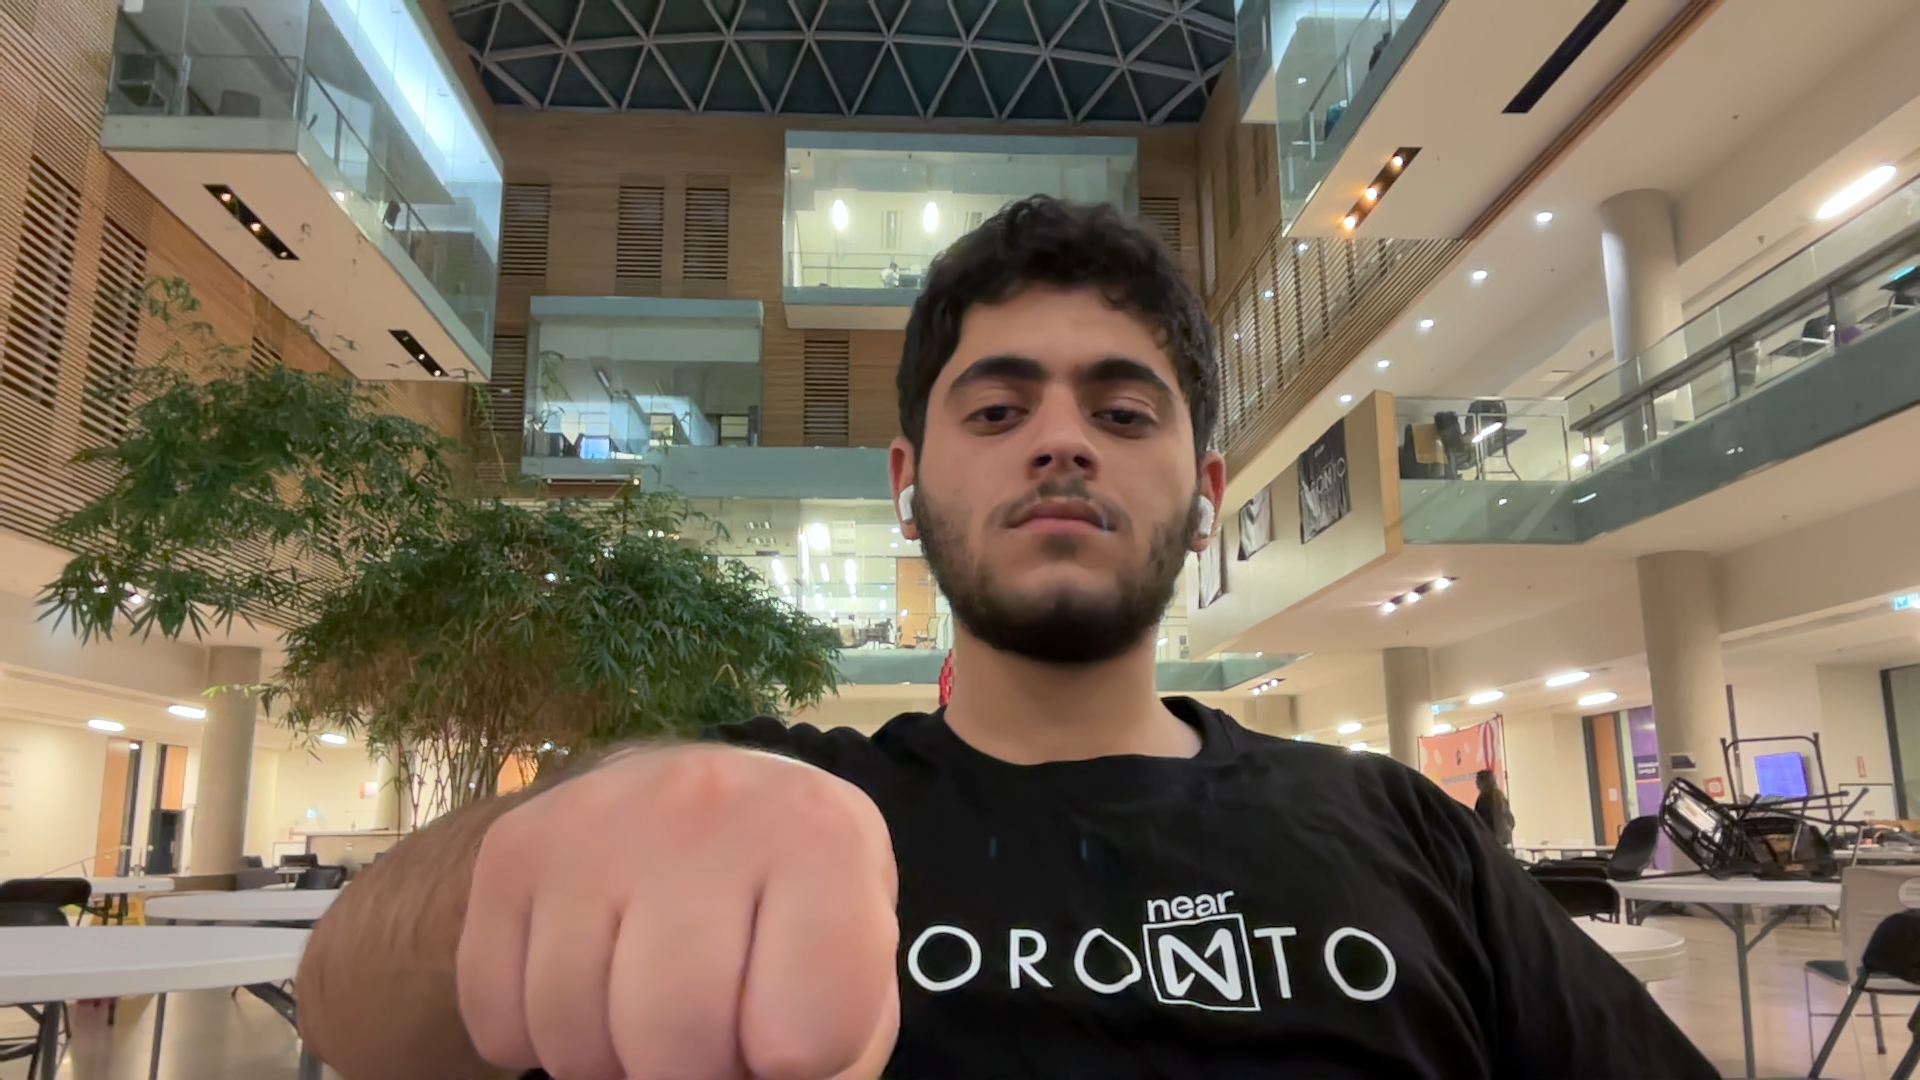yes: (411, 665, 975, 1080)
